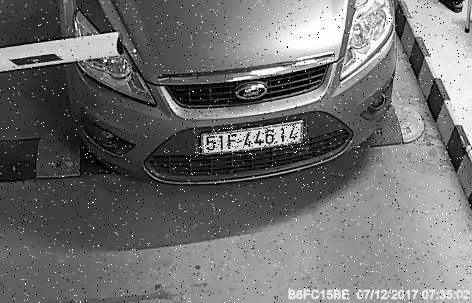License-plate: (195, 125, 310, 156)
